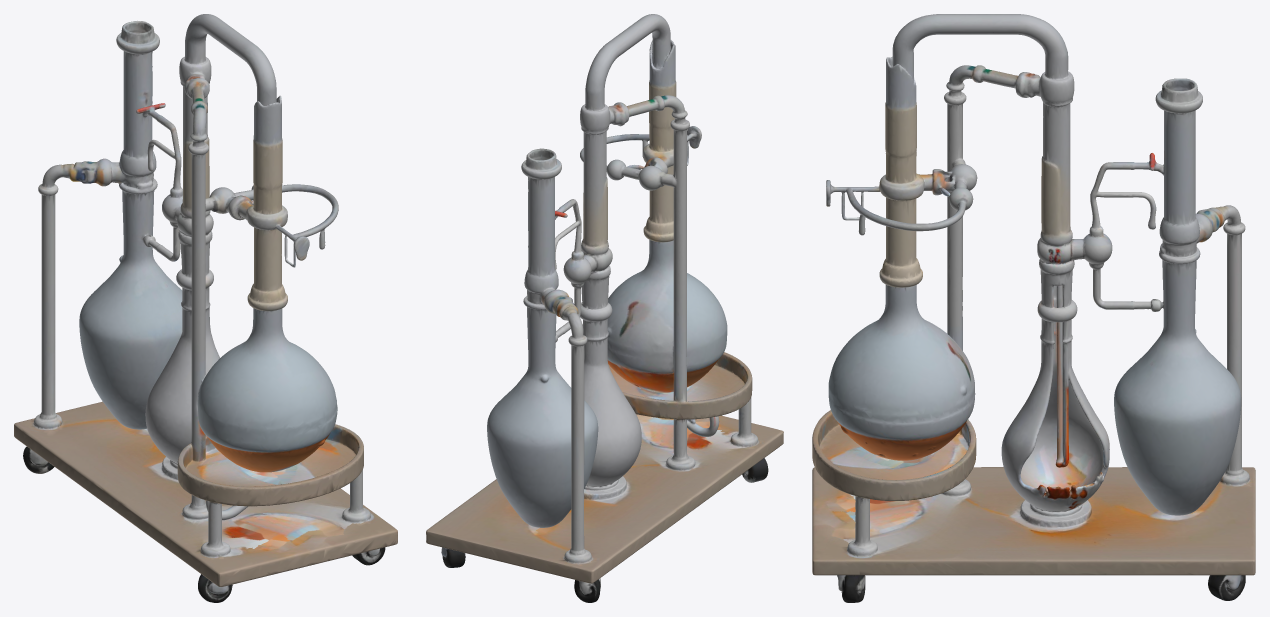
The model's file is destilacion-opt.glb.
3 views of the same model, side by side, from view 1: azimuth 30°, elevation 25°; view 2: azimuth 150°, elevation 25°; view 3: azimuth 270°, elevation 25° (orthographic). The views are drawn at different scales.
Visible parts, largest first — view 1: tripo_node_7923a58c-d82f-4213-bd1e-83360d8b2345; view 2: tripo_node_7923a58c-d82f-4213-bd1e-83360d8b2345; view 3: tripo_node_7923a58c-d82f-4213-bd1e-83360d8b2345.
Boxes of the visible parts, x1,y1,x2,y2 form: tripo_node_7923a58c-d82f-4213-bd1e-83360d8b2345: (14, 14, 397, 602); tripo_node_7923a58c-d82f-4213-bd1e-83360d8b2345: (426, 14, 783, 602); tripo_node_7923a58c-d82f-4213-bd1e-83360d8b2345: (812, 14, 1255, 602).
Bounding box in the file's own units: 0.3777 × 1 × 0.7359.
Materials: 1 (1 with a texture image).
